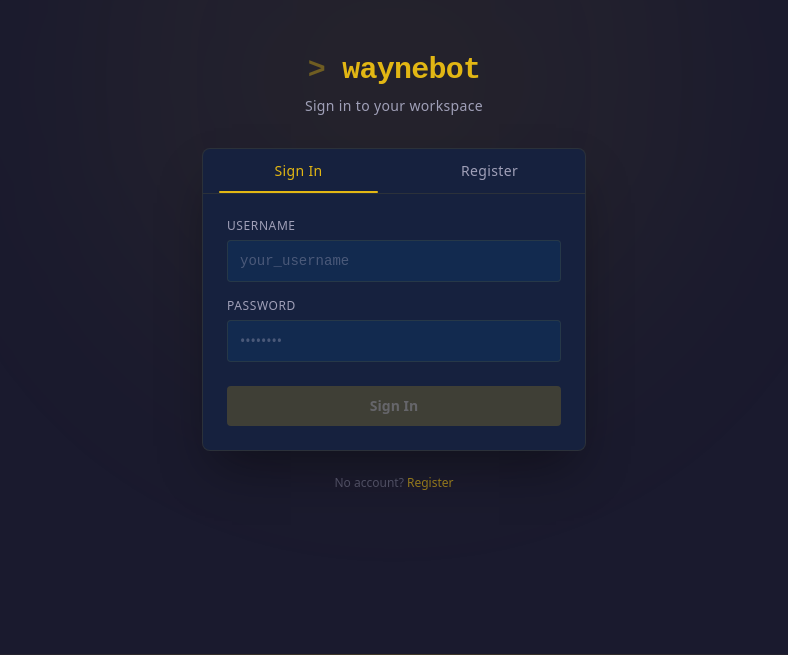
Test: LoginPage › toggles to register mode
This screenshot has width=788, height=655.
Click the button with test id "tab-register" at (490,170), box 394,148 -> 585,192
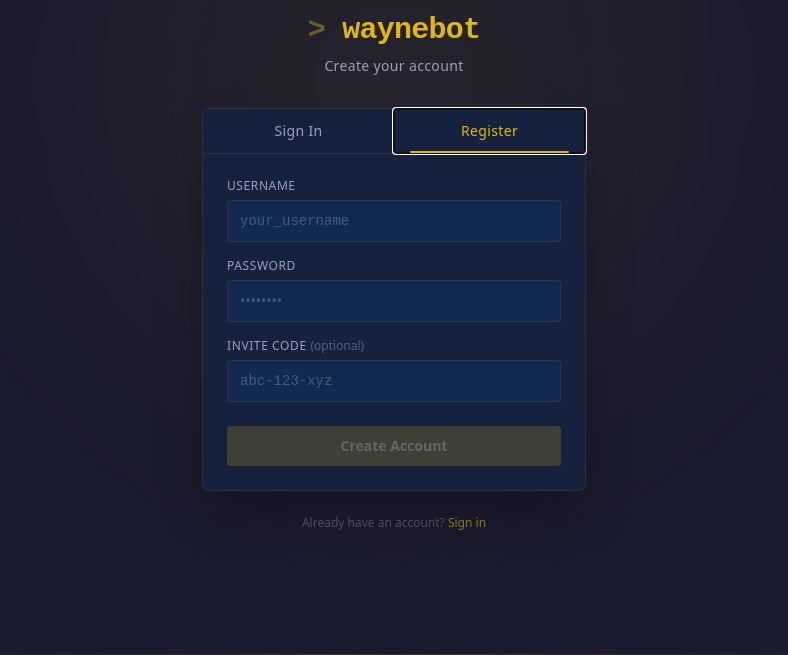
Expected: the text "Create your account" is shown, 324,56 -> 464,74
Expected: the field labelled "Invite Code (optional)" is shown, 227,360 -> 561,402
